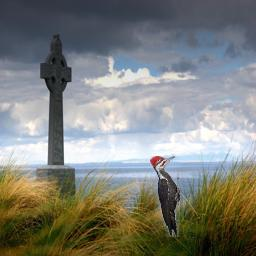Woodpecker: (150, 156, 180, 237)
